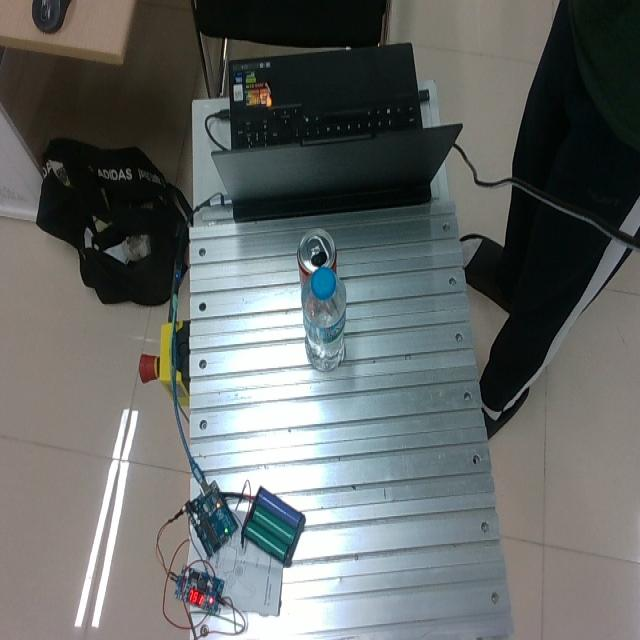coca: (296, 228, 337, 293)
lavie: (300, 264, 347, 371)
